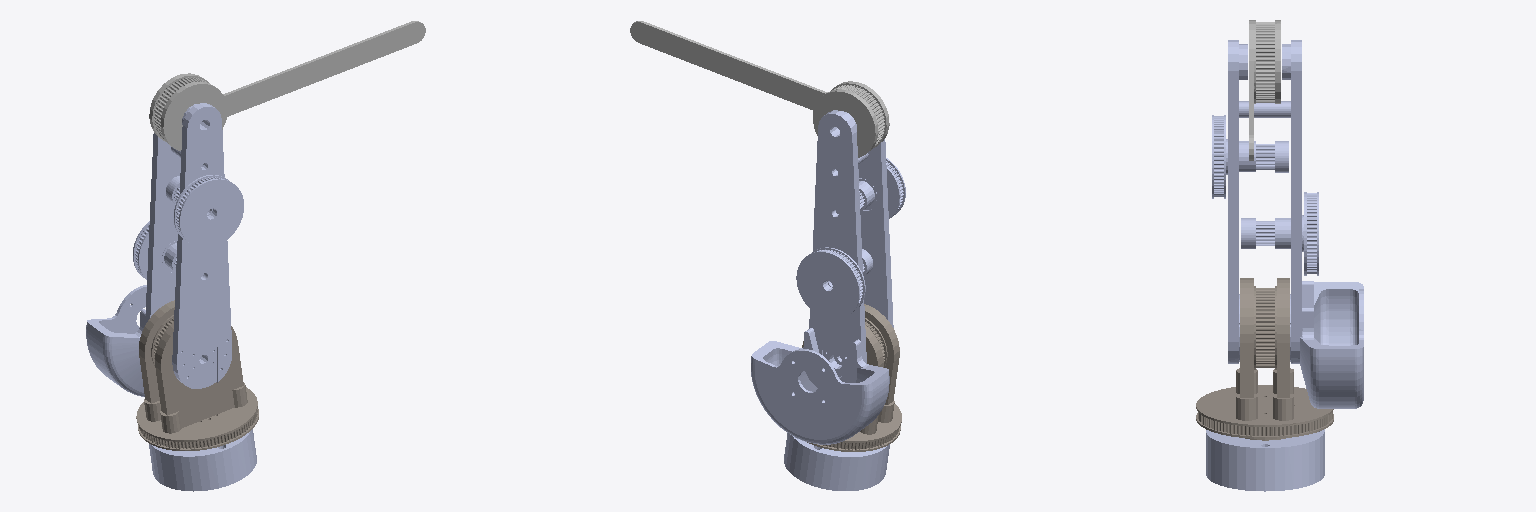
The robot description file, URDF, robot "doggo-arm":
<?xml version="1.0" encoding="utf-8"?>
<!-- This URDF was automatically created by SolidWorks to URDF Exporter! Originally created by [author] ([email redacted]) 
     Commit Version: 1.5.1-0-g916b5db  Build Version: 1.5.7152.31018
     For more information, please see http://wiki.ros.org/sw_urdf_exporter -->
<robot
  name="doggo-arm">
  <link
    name="base_link">
    <inertial>
      <origin
        xyz="-0.00249907981257669 -9.32086720054057E-18 0.0175977932152876"
        rpy="0 0 0" />
      <mass
        value="0.203495112955171" />
      <inertia
        ixx="0.000104236274221787"
        ixy="-7.57035696608531E-21"
        ixz="-1.21477470405593E-05"
        iyy="0.000102511160792736"
        iyz="-3.8903958569594E-20"
        izz="0.000188052062438038" />
    </inertial>
    <visual>
      <origin
        xyz="0 0 0"
        rpy="0 0 0" />
      <geometry>
        <mesh
          filename="package://doggo-arm/meshes/base_link.STL" />
      </geometry>
      <material
        name="">
        <color
          rgba="0.792156862745098 0.819607843137255 0.933333333333333 1" />
      </material>
    </visual>
    <collision>
      <origin
        xyz="0 0 0"
        rpy="0 0 0" />
      <geometry>
        <mesh
          filename="package://doggo-arm/meshes/base_link.STL" />
      </geometry>
    </collision>
  </link>
  <link
    name="link_1">
    <inertial>
      <origin
        xyz="-4.49093259224688E-17 2.09157702478247E-17 0.0231496201379514"
        rpy="0 0 0" />
      <mass
        value="0.323190291619555" />
      <inertia
        ixx="0.000175468537584274"
        ixy="5.68041470252415E-20"
        ixz="2.53808558676852E-20"
        iyy="0.000241585795015737"
        iyz="4.80231883225913E-20"
        izz="0.000184765235128091" />
    </inertial>
    <visual>
      <origin
        xyz="0 0 0"
        rpy="0 0 0" />
      <geometry>
        <mesh
          filename="package://doggo-arm/meshes/link_1.STL" />
      </geometry>
      <material
        name="">
        <color
          rgba="0.650980392156863 0.619607843137255 0.588235294117647 1" />
      </material>
    </visual>
    <collision>
      <origin
        xyz="0 0 0"
        rpy="0 0 0" />
      <geometry>
        <mesh
          filename="package://doggo-arm/meshes/link_1.STL" />
      </geometry>
    </collision>
  </link>
  <joint
    name="joint_1"
    type="revolute">
    <origin
      xyz="-0.00712228407792315 0 0.0501530530529946"
      rpy="0 -0.141067714288093 0" />
    <parent
      link="base_link" />
    <child
      link="link_1" />
    <axis
      xyz="0 0 1" />
    <limit
      lower="0"
      upper="0"
      effort="0"
      velocity="0" />
  </joint>
  <link
    name="link_2">
    <inertial>
      <origin
        xyz="1.83705706549575E-09 0.0201358287223158 -0.00684978768541665"
        rpy="0 0 0" />
      <mass
        value="0.767319525141475" />
      <inertia
        ixx="0.00124870326338724"
        ixy="-4.60347661063493E-11"
        ixz="5.22187652298749E-10"
        iyy="0.000522238333741946"
        iyz="-7.5612061144718E-07"
        izz="0.00165164652637645" />
    </inertial>
    <visual>
      <origin
        xyz="0 0 0"
        rpy="0 0 0" />
      <geometry>
        <mesh
          filename="package://doggo-arm/meshes/link_2.STL" />
      </geometry>
      <material
        name="">
        <color
          rgba="0.792156862745098 0.819607843137255 0.933333333333333 1" />
      </material>
    </visual>
    <collision>
      <origin
        xyz="0 0 0"
        rpy="0 0 0" />
      <geometry>
        <mesh
          filename="package://doggo-arm/meshes/link_2.STL" />
      </geometry>
    </collision>
  </link>
  <joint
    name="joint_2"
    type="revolute">
    <origin
      xyz="0 0 0.0564289864729904"
      rpy="1.5707963267949 0.141067714288093 0" />
    <parent
      link="link_1" />
    <child
      link="link_2" />
    <axis
      xyz="0 0 -1" />
    <limit
      lower="0"
      upper="0"
      effort="0"
      velocity="0" />
  </joint>
  <link
    name="link_3">
    <inertial>
      <origin
        xyz="0.0195583377309808 -4.9960036108132E-16 0.00157936478740285"
        rpy="0 0 0" />
      <mass
        value="0.0673455496116316" />
      <inertia
        ixx="1.52607787895724E-05"
        ixy="1.08874740070451E-21"
        ixz="-1.06633035176989E-05"
        iyy="0.000177274185951007"
        iyz="7.31641251803153E-22"
        izz="0.000185788072878409" />
    </inertial>
    <visual>
      <origin
        xyz="0 0 0"
        rpy="0 0 0" />
      <geometry>
        <mesh
          filename="package://doggo-arm/meshes/link_3.STL" />
      </geometry>
      <material
        name="">
        <color
          rgba="0.752941176470588 0.752941176470588 0.752941176470588 1" />
      </material>
    </visual>
    <collision>
      <origin
        xyz="0 0 0"
        rpy="0 0 0" />
      <geometry>
        <mesh
          filename="package://doggo-arm/meshes/link_3.STL" />
      </geometry>
    </collision>
  </link>
  <joint
    name="joint_3"
    type="revolute">
    <origin
      xyz="0 0.20548346 0"
      rpy="0 0 0.136006732773705" />
    <parent
      link="link_2" />
    <child
      link="link_3" />
    <axis
      xyz="0 0 1" />
    <limit
      lower="0"
      upper="0"
      effort="0"
      velocity="0" />
  </joint>
</robot>

--- What the picture shows (computed from the rendered views, not written in the file) ---
3 views of the same robot in one strip: view 1: azimuth 30°, elevation 25°; view 2: azimuth 150°, elevation 25°; view 3: azimuth 270°, elevation 25° (orthographic).
Robot: doggo-arm — 4 links, 3 joints (3 revolute); root link base_link; default pose: every joint at zero.
Links seen in each view (by area): view 1: link_2, link_1, link_3, base_link; view 2: link_2, link_3, base_link, link_1; view 3: link_2, link_1, base_link, link_3.
Boxes of the visible links, bbox=[...] form: link_2: bbox=[86, 103, 243, 396]; link_1: bbox=[136, 300, 258, 450]; link_3: bbox=[149, 21, 425, 150]; base_link: bbox=[149, 429, 256, 491]; link_2: bbox=[751, 110, 905, 444]; link_3: bbox=[630, 21, 889, 157]; base_link: bbox=[784, 433, 889, 490]; link_1: bbox=[802, 304, 901, 451]; link_2: bbox=[1212, 40, 1363, 408]; link_1: bbox=[1196, 278, 1333, 440]; base_link: bbox=[1206, 429, 1324, 491]; link_3: bbox=[1249, 20, 1280, 160].
Bounding box of the posed robot: 0.2674 × 0.1173 × 0.3544 m (x, y, z).
Meshes: 4 distinct files referenced, 4 mesh visuals loaded (4 binary STL).